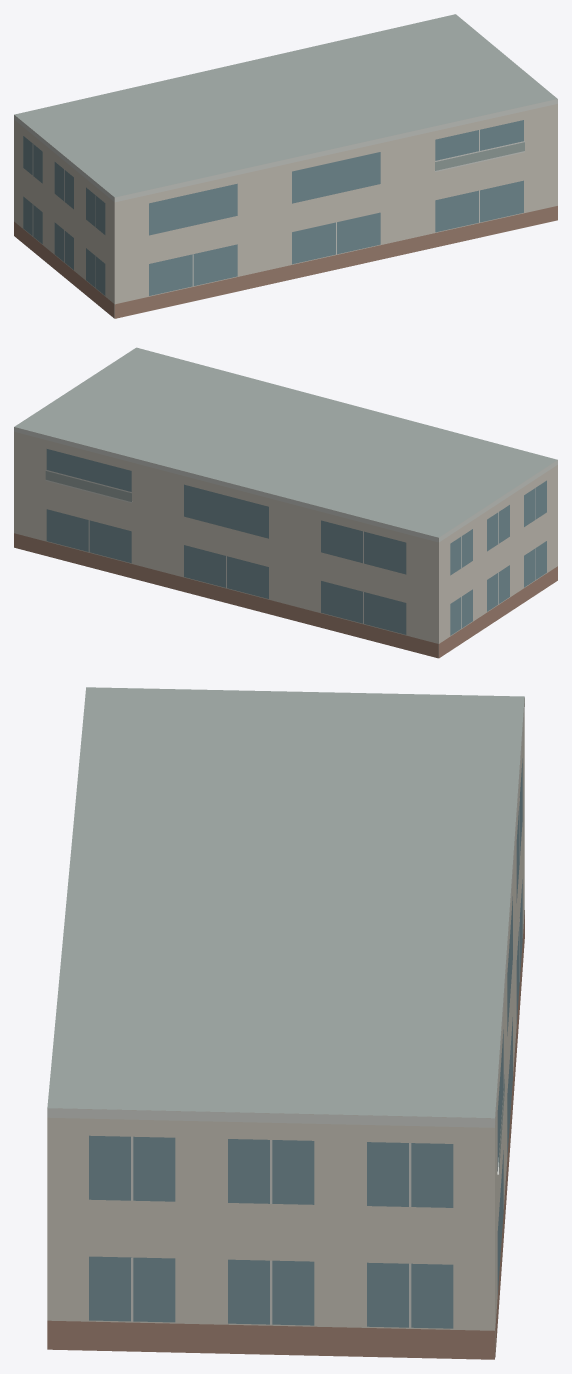
Rendered from survey-upis-32841465.glb.
3 renders of one model, top to bottom at view 1: azimuth 30°, elevation 25°; view 2: azimuth 150°, elevation 25°; view 3: azimuth 270°, elevation 25°, orthographic. The views are drawn at different scales.
Visible parts, largest first — view 1: survey-upis-32841465.tmp; view 2: survey-upis-32841465.tmp; view 3: survey-upis-32841465.tmp.
Part boxes in pixels (x1=…): survey-upis-32841465.tmp: x1=14, y1=14, x2=557, y2=318; survey-upis-32841465.tmp: x1=14, y1=347, x2=557, y2=658; survey-upis-32841465.tmp: x1=47, y1=687, x2=524, y2=1359.
Bounding box in the file's own units: 23.36 × 6.1 × 10.94.
